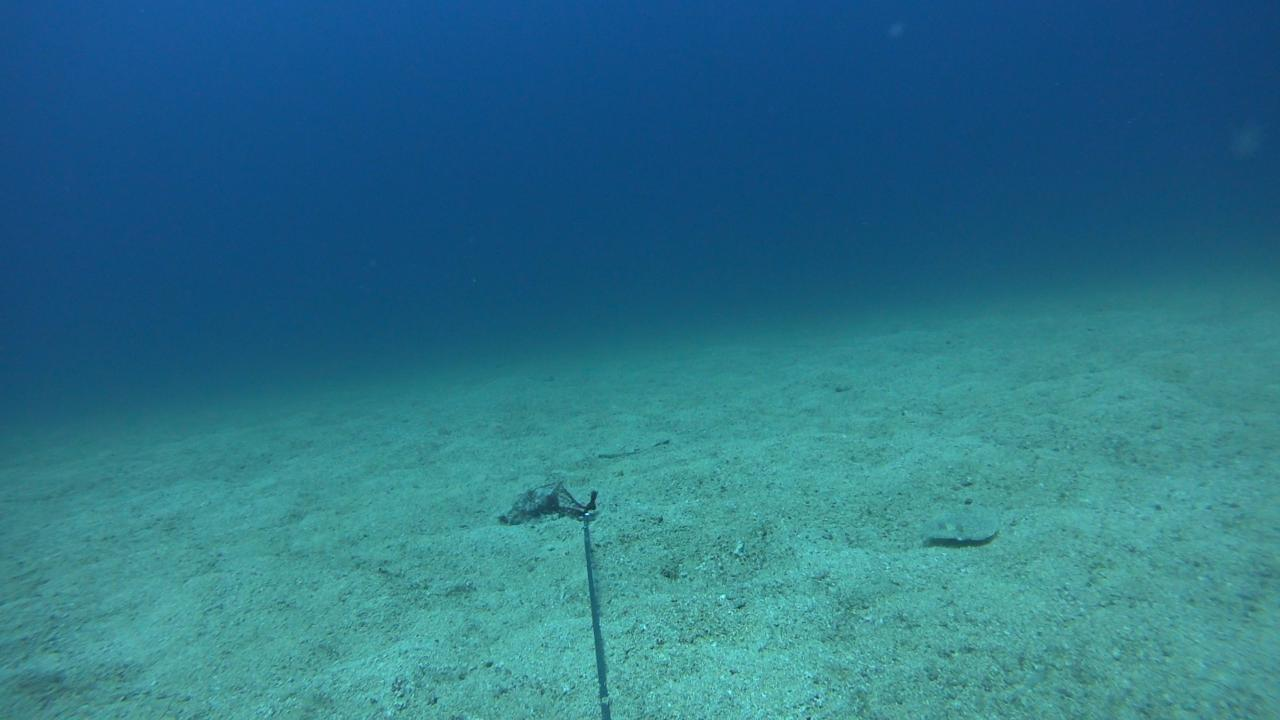bothus: (914, 503, 1004, 553)
